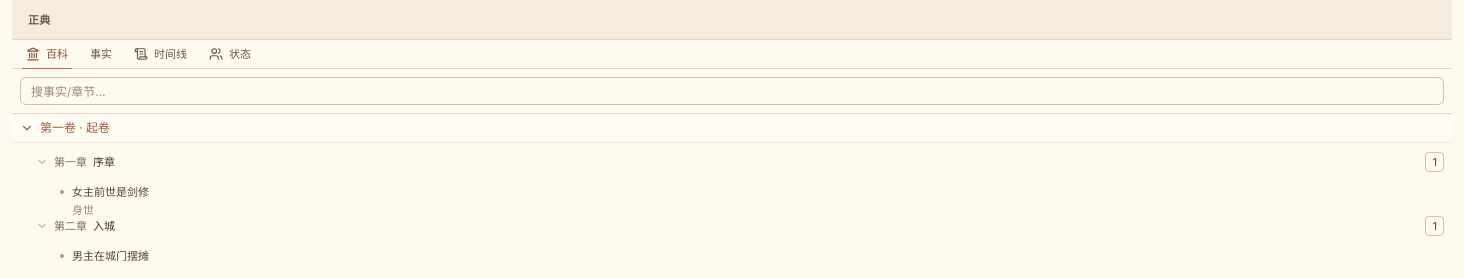
Test: FactsPanel 正典树 › collapsing a volume hides its whole subtree
What coordinates should you click on to do the following:
click the button "第一卷 · 起卷"
I would click on:
 (75, 128)
Its box is [12,114,1452,143].
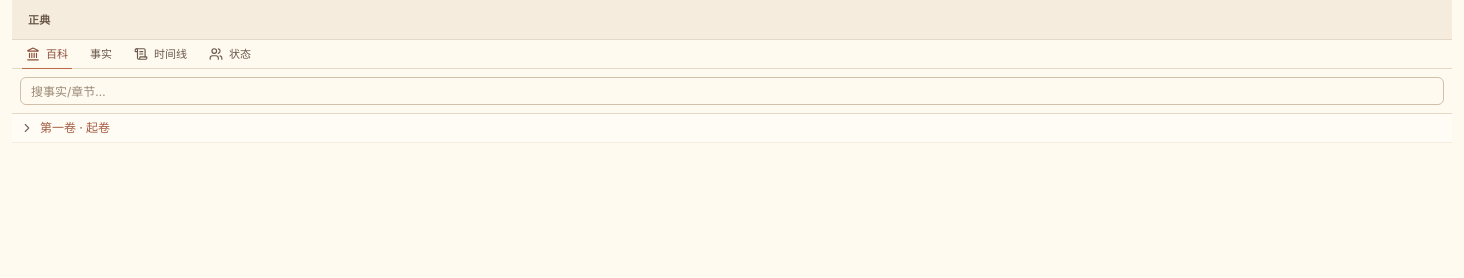
Now the button "序章" is gone
Now the text "女主前世是剑修" is gone
